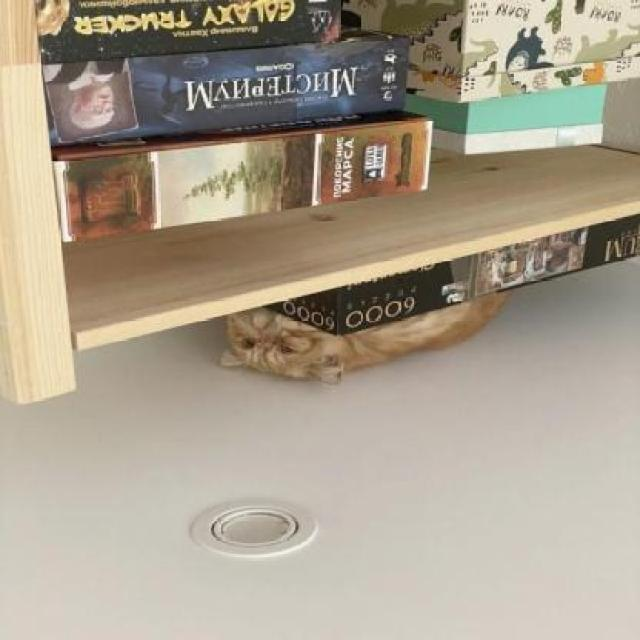cat: (202, 303, 503, 372)
